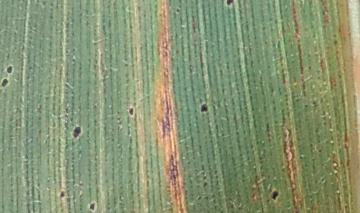tarspot: (72, 125, 83, 139), (270, 190, 281, 201), (1, 77, 11, 88), (4, 64, 14, 75), (199, 103, 209, 113), (88, 201, 96, 212), (59, 190, 67, 199), (128, 106, 135, 116), (175, 6, 181, 14), (332, 38, 338, 46), (225, 1, 234, 6)
